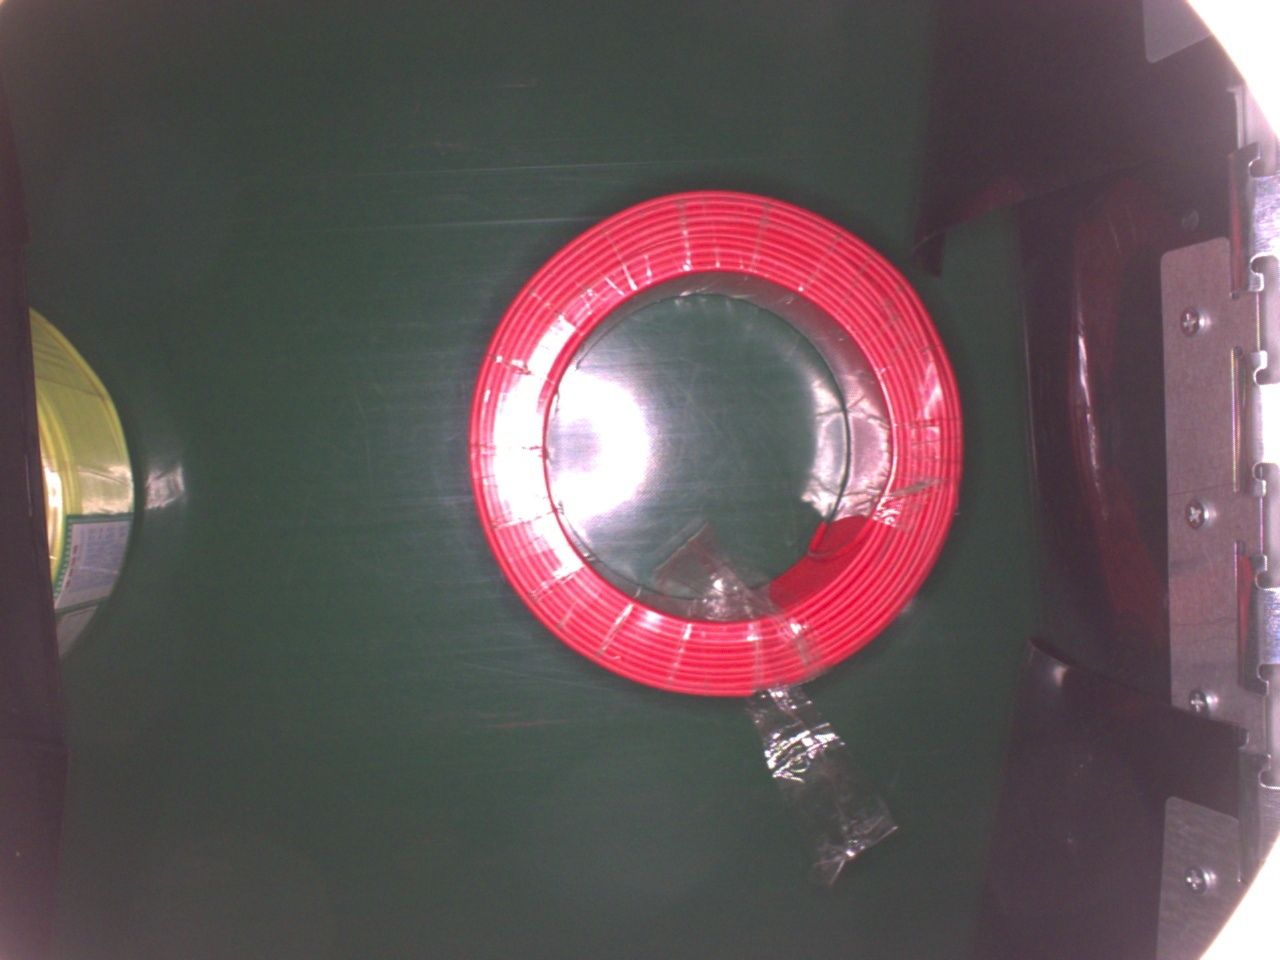red: (471, 187, 968, 699)
